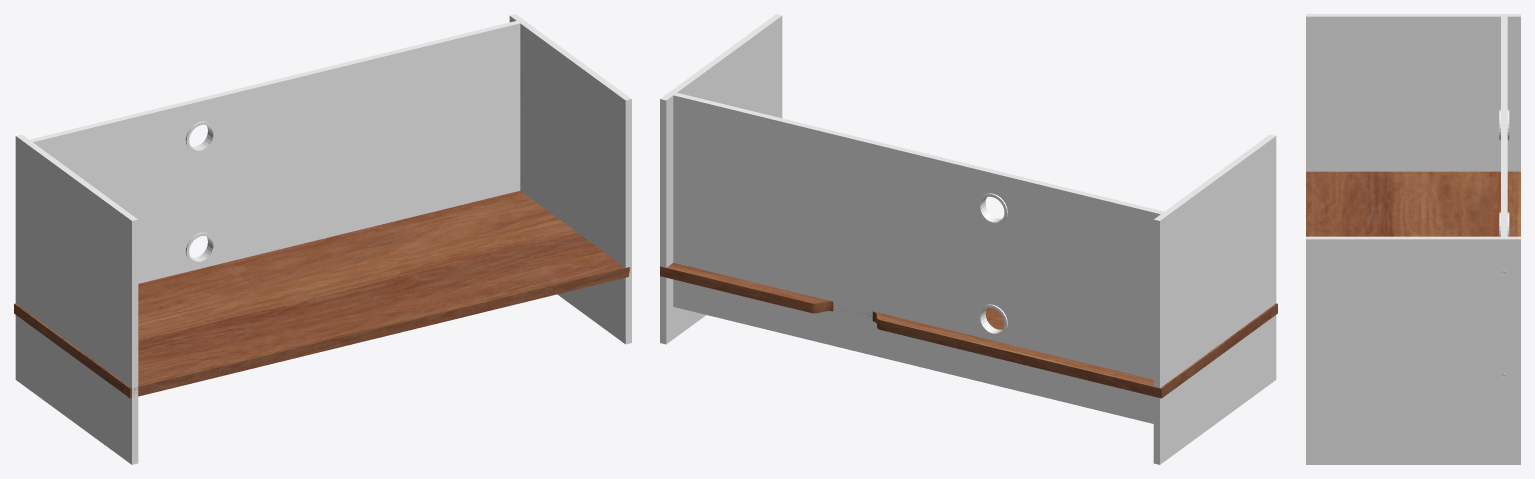
The model's file is Table.glb.
The picture shows the model from 3 angles, left to right: view 1: azimuth 30°, elevation 25°; view 2: azimuth 150°, elevation 25°; view 3: azimuth 270°, elevation 25°; orthographic projection. The views are drawn at different scales.
Visible parts, largest first — view 1: Desk_Support, Desk_Wood; view 2: Desk_Support, Desk_Wood; view 3: Desk_Support, Desk_Wood.
Boxes of the visible parts, x1=… form: Desk_Support: x1=15, y1=14, x2=631, y2=464; Desk_Wood: x1=14, y1=191, x2=630, y2=398; Desk_Support: x1=660, y1=14, x2=1276, y2=464; Desk_Wood: x1=660, y1=262, x2=1277, y2=398; Desk_Support: x1=1306, y1=14, x2=1520, y2=464; Desk_Wood: x1=1306, y1=171, x2=1520, y2=236.
Size of the model in its own units: 1.62 by 0.7528 by 0.65.
4 materials, 1 textured.
